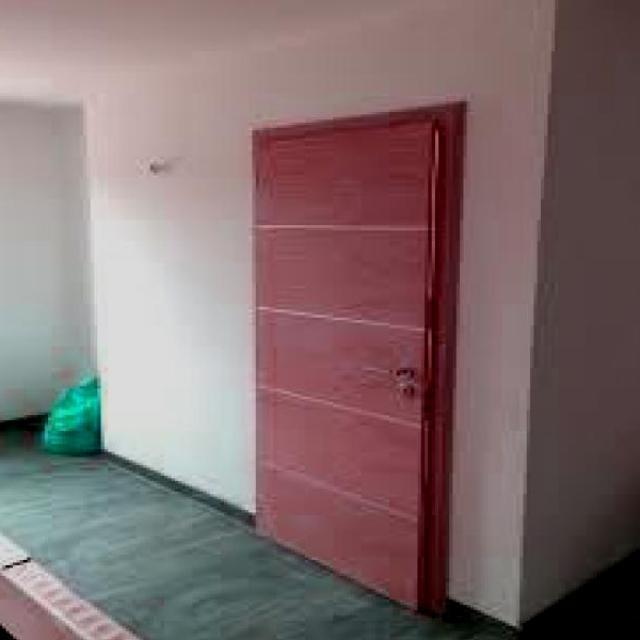door: (248, 102, 459, 615)
